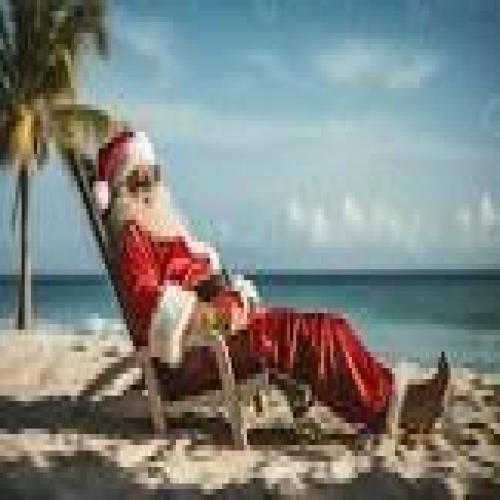Santa: (89, 99, 455, 453)
